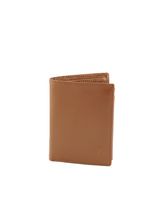other: (47, 74, 140, 167)
